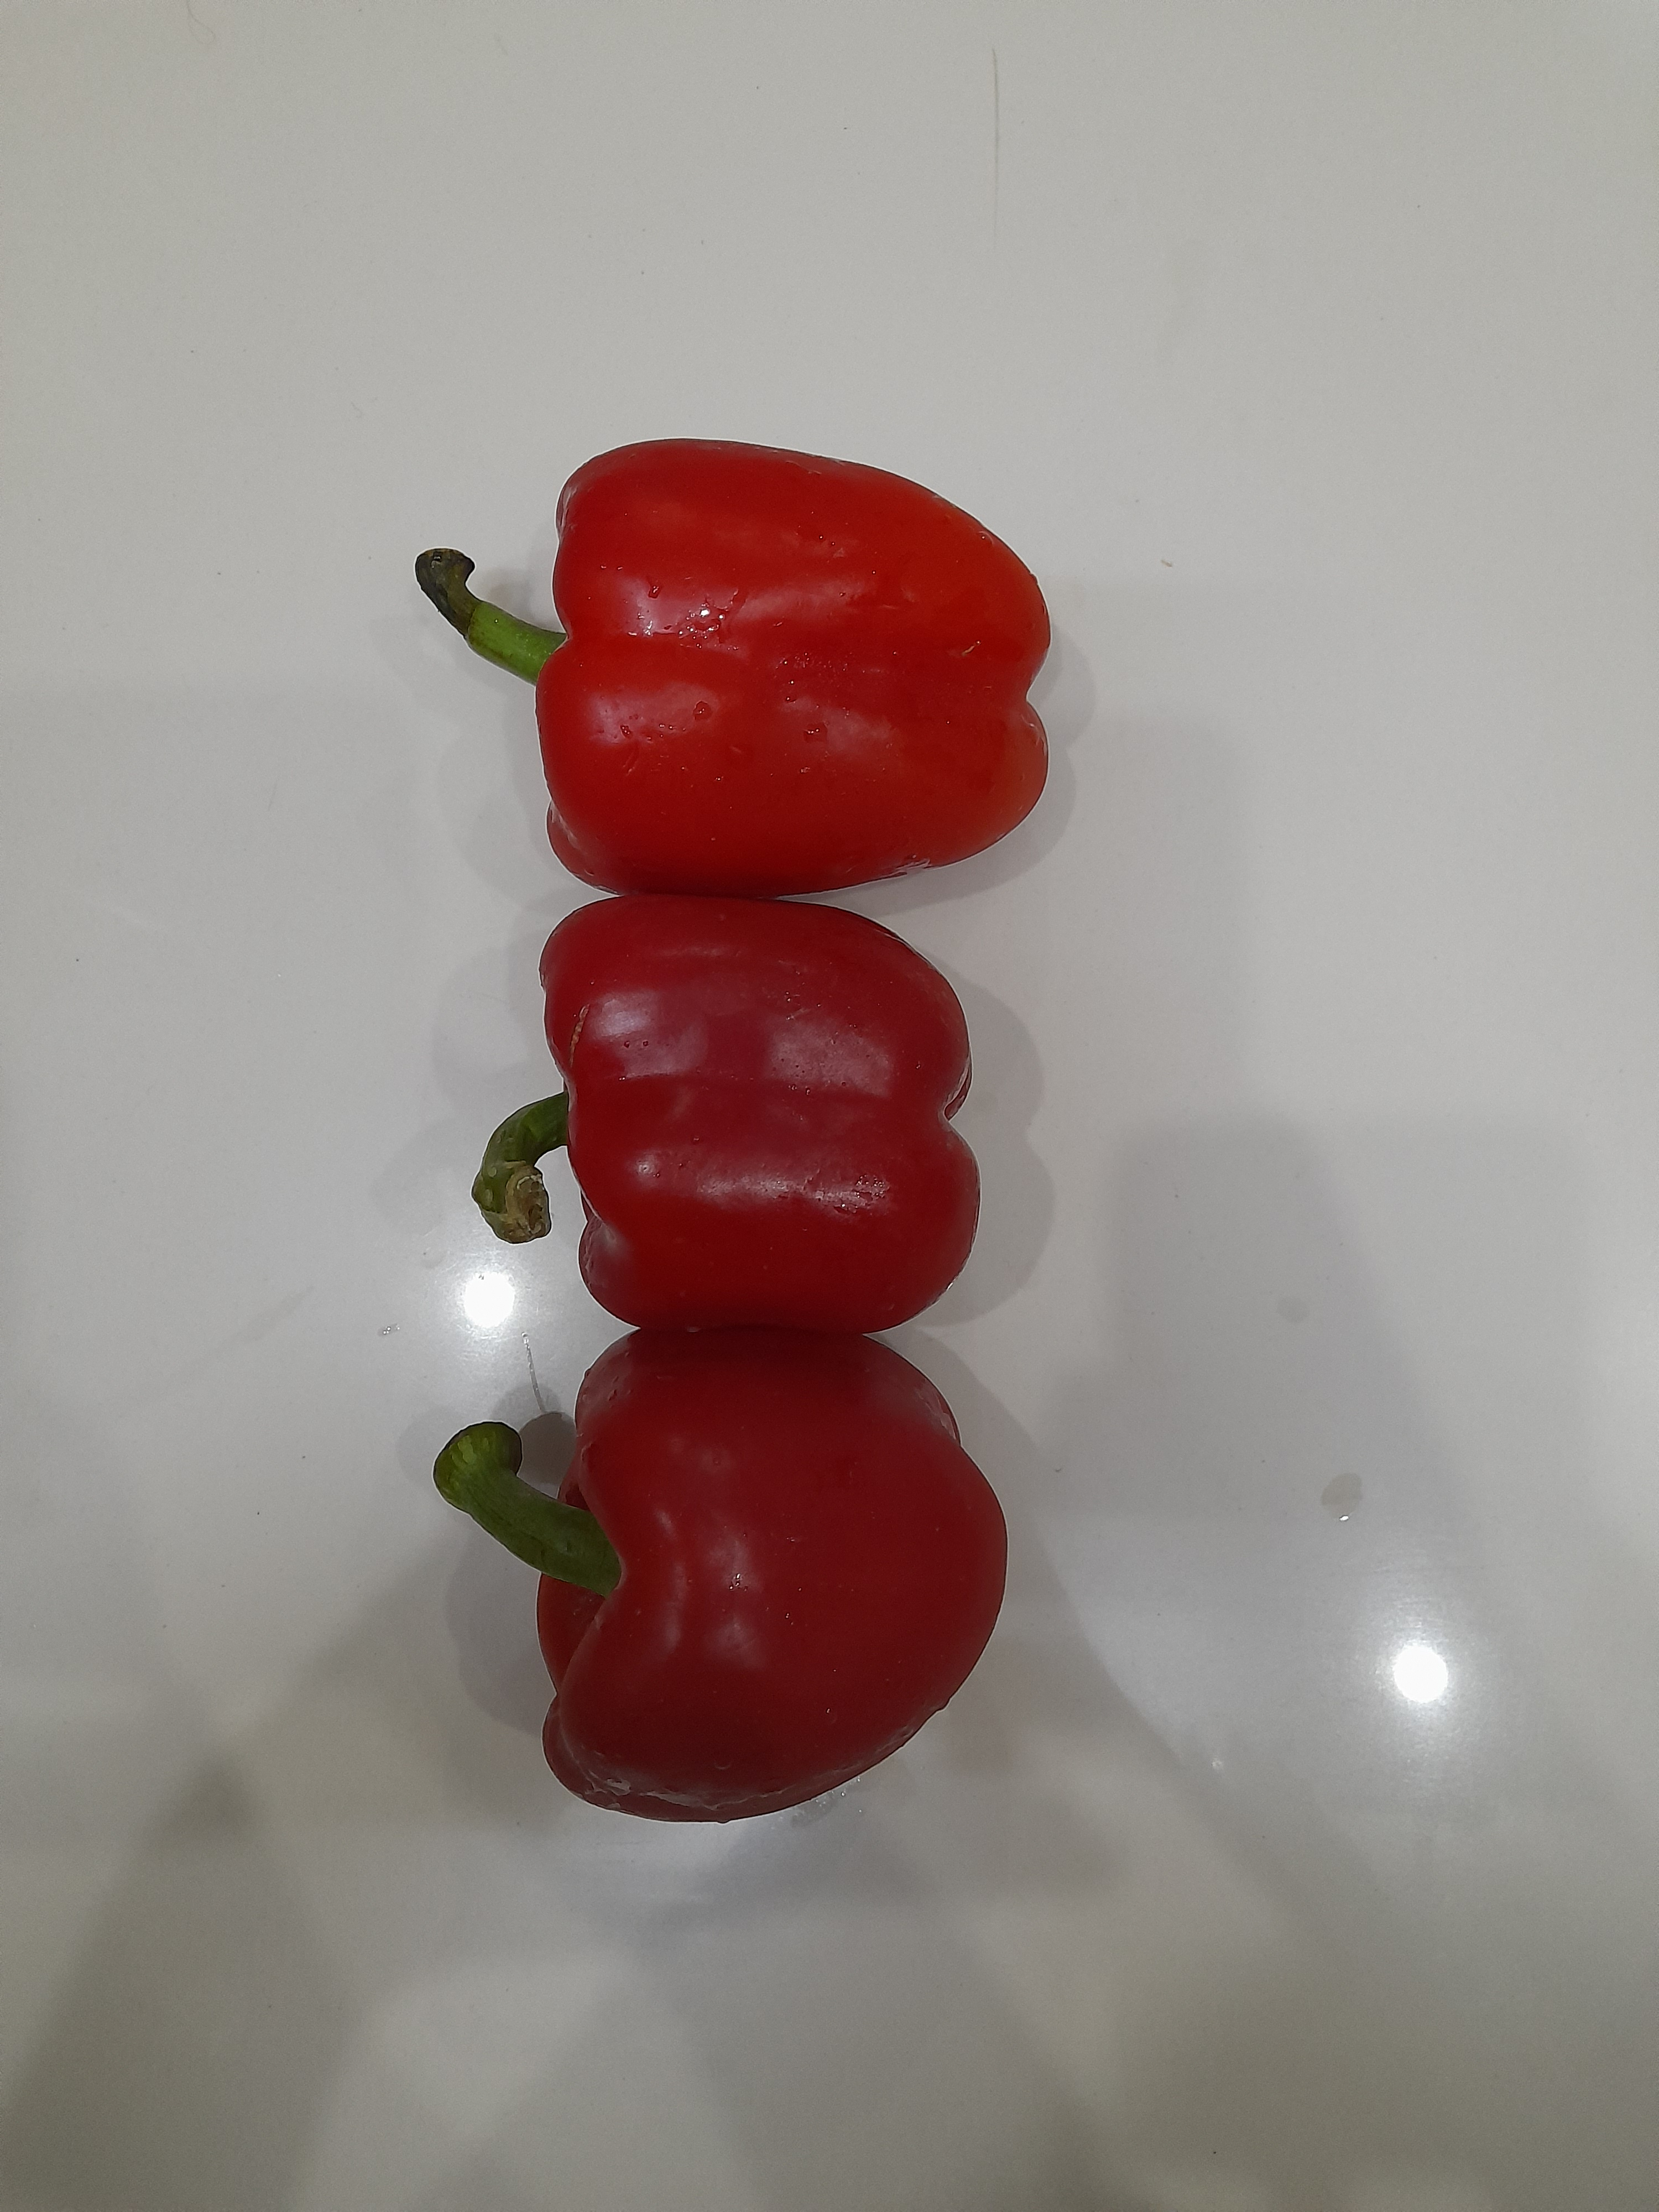Ot chuong: (413, 437, 1056, 904), (427, 1325, 1011, 1827), (472, 899, 986, 1339)
